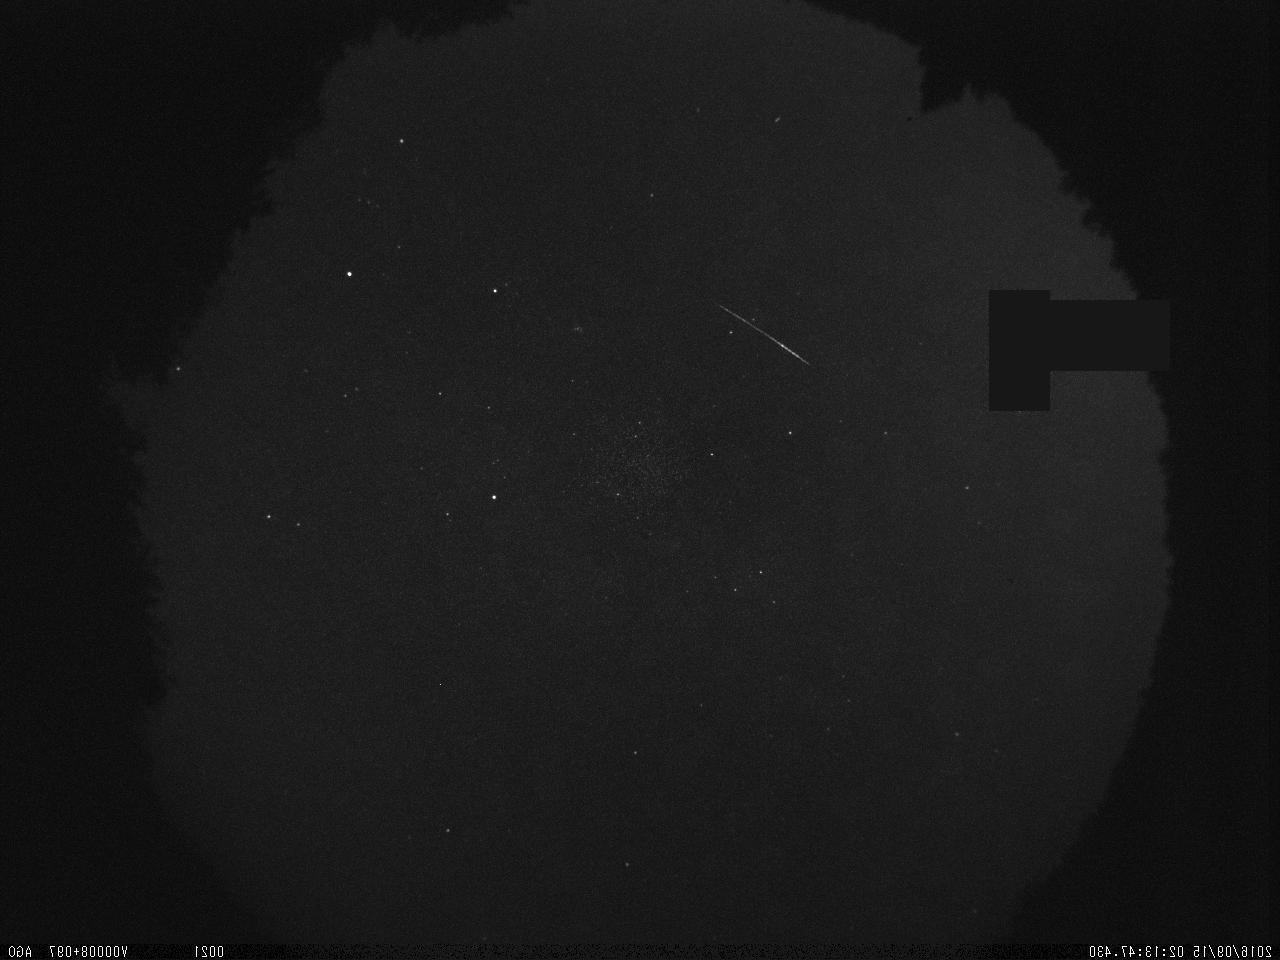meteor: (686, 275, 856, 386)
